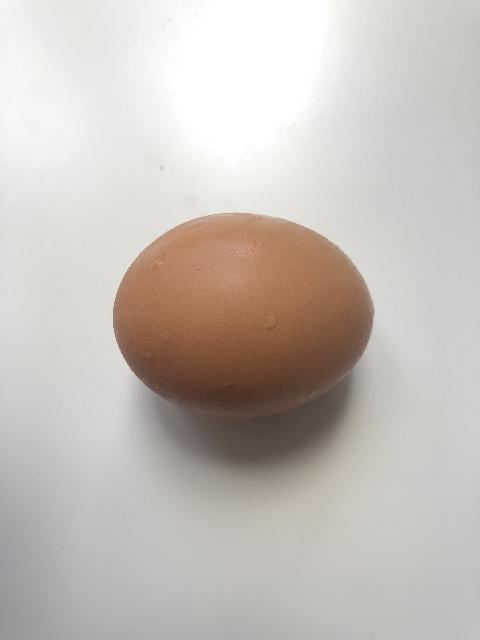Sano: (111, 210, 375, 420)
